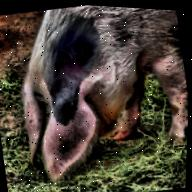boar: (3, 1, 192, 192), (178, 152, 187, 187)
